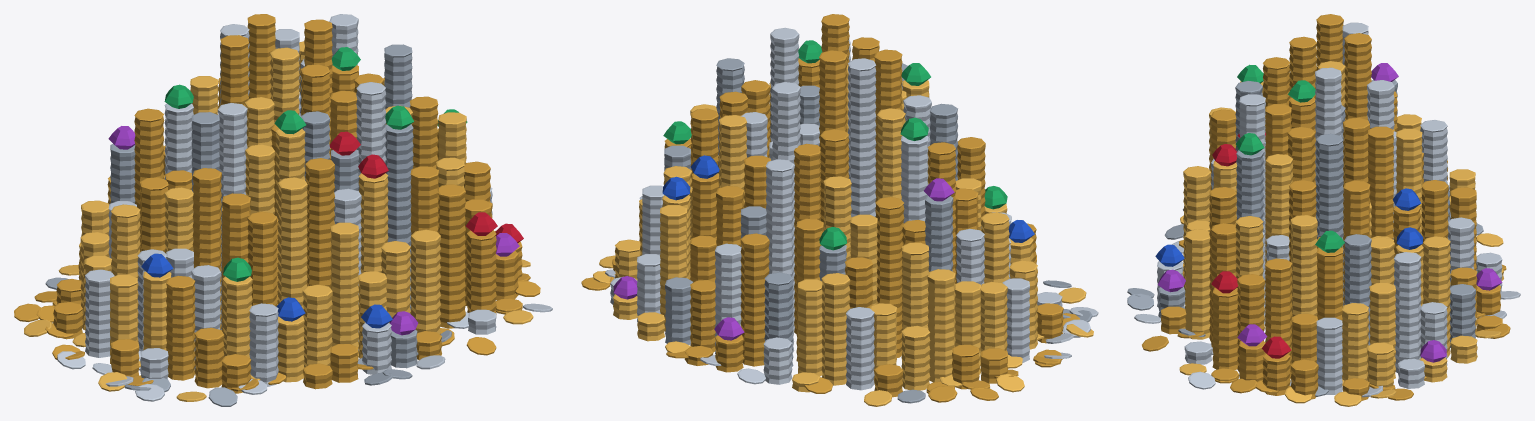
File: PileTall.fbx
3 renders of one model, left to right at view 1: azimuth 30°, elevation 25°; view 2: azimuth 150°, elevation 25°; view 3: azimuth 270°, elevation 25°, orthographic. The views are drawn at different scales.
Parts seen in each view (by area): view 1: PileTall; view 2: PileTall; view 3: PileTall.
Boxes of the visible parts, x1,y1,x2,y2 form: PileTall: (14, 14, 552, 406); PileTall: (581, 14, 1098, 406); PileTall: (1127, 14, 1520, 406).
Size of the model in its own units: 127 by 74.4 by 98.73.
